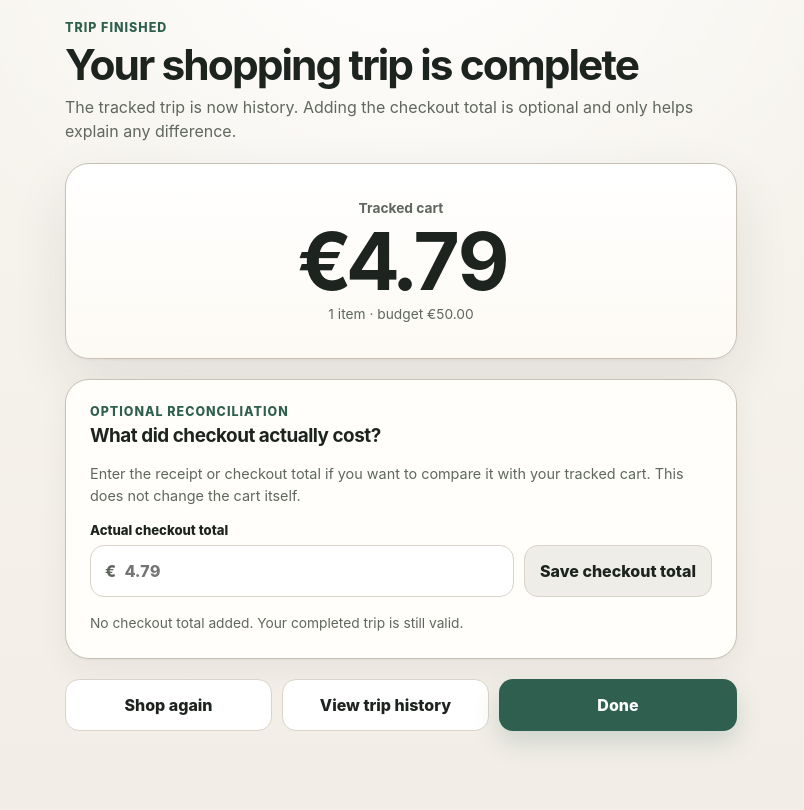
Test case: CompletedSummaryScreen › blocks Shop again while completed history has unsaved changes
Type "5.00" into the field labelled "Actual checkout total". click: (311, 571)
box: [123,560,499,582]
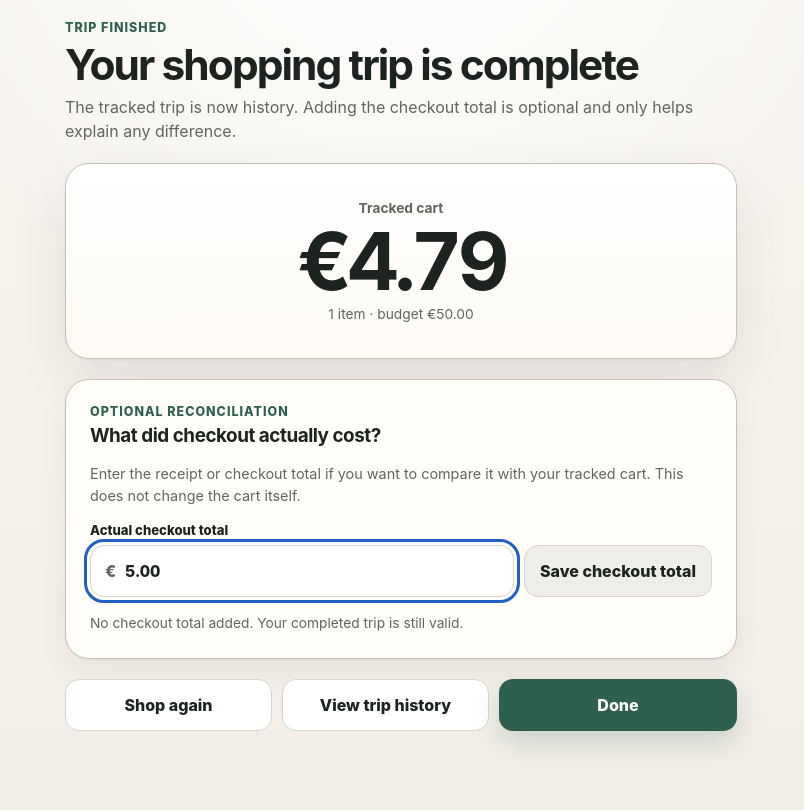
Click the button "Save checkout total". click: (618, 571)
box: [524,545,712,597]
(page scrolled)
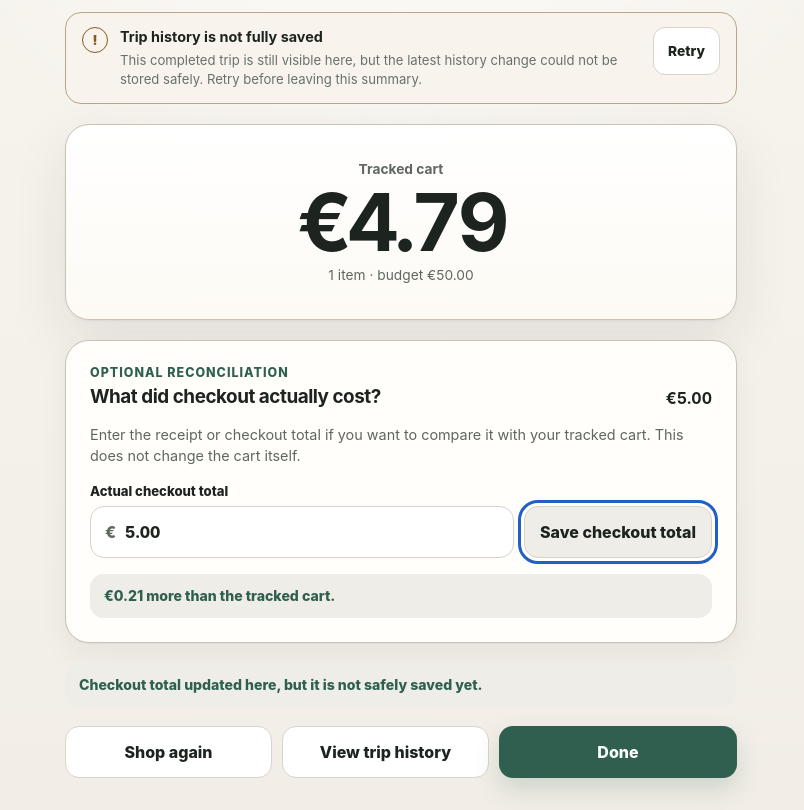
Click the button "Shop again". click: (168, 752)
box: [65,726,272,778]
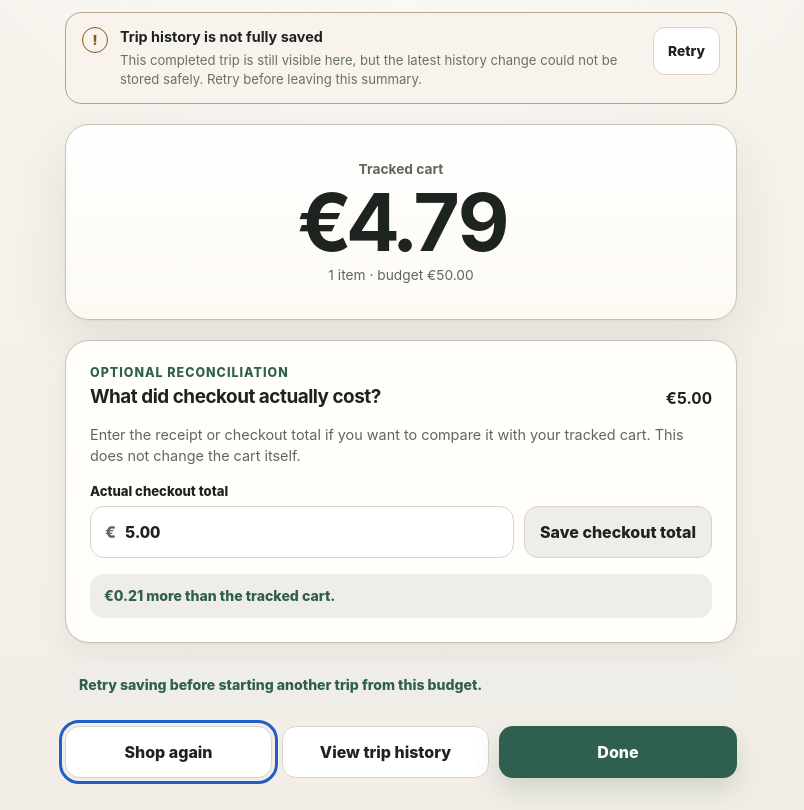
Now the text "Retry saving before starting another trip from this budget." is shown, box [65,662,737,706]
